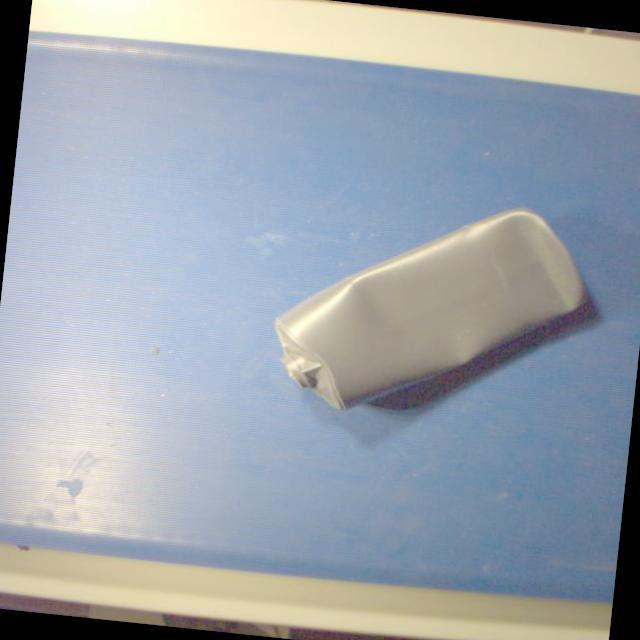HDPE Plastic: (269, 205, 593, 413)
